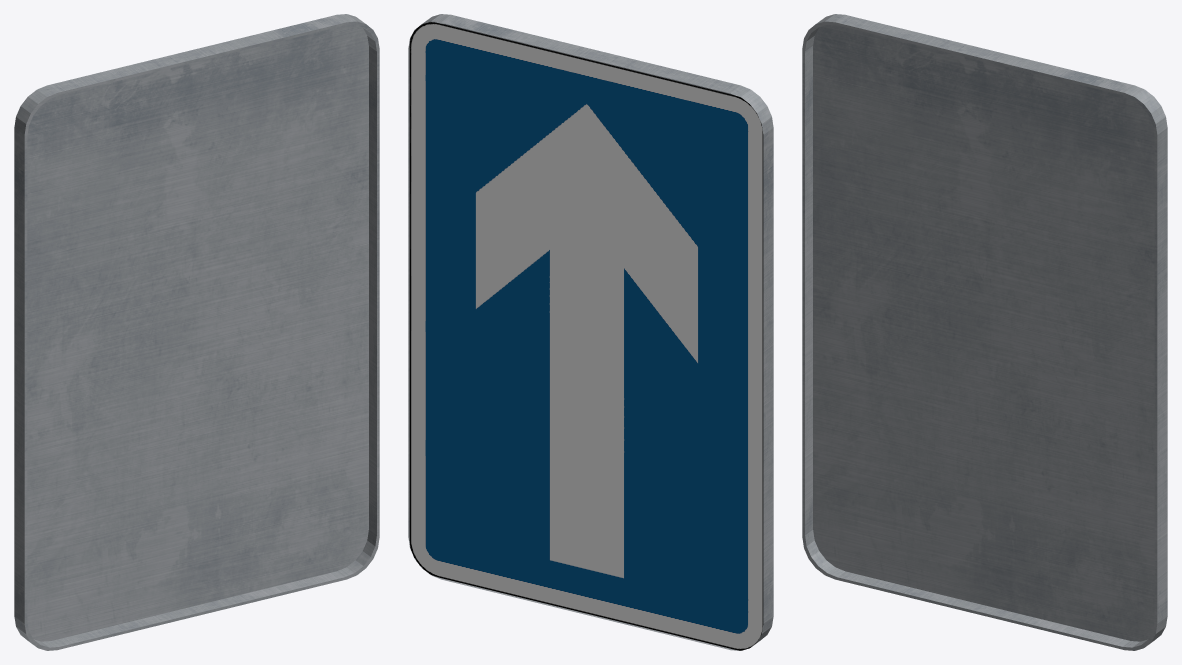
File: One-way_traffic.fbx
3 views of the same model, side by side, from view 1: azimuth 30°, elevation 25°; view 2: azimuth 150°, elevation 25°; view 3: azimuth 330°, elevation 25° (orthographic).
Parts seen in each view (by area): view 1: One-way traffic; view 2: One-way traffic; view 3: One-way traffic.
Part boxes in pixels (left/top/right/bottom): One-way traffic: left=14, top=14, right=379, bottom=650; One-way traffic: left=408, top=14, right=773, bottom=650; One-way traffic: left=802, top=14, right=1167, bottom=650.
Size of the model in its own units: 0.02 by 0.4 by 0.6.
